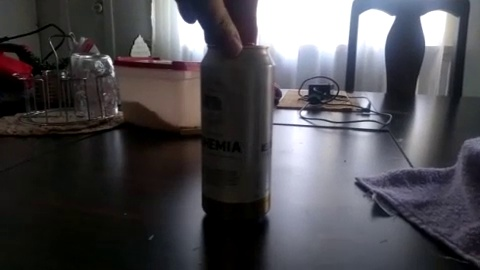bohemia: (184, 24, 280, 230)
